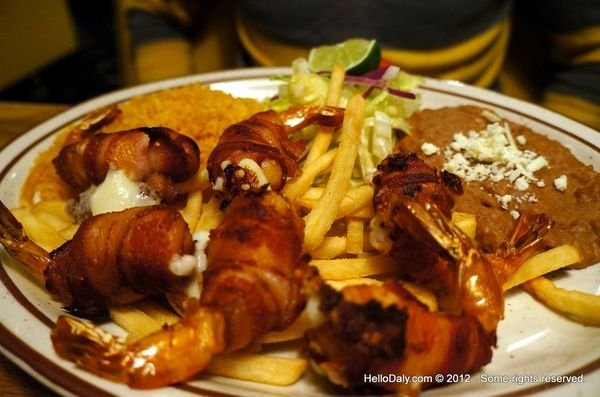curry: (1, 39, 598, 389)
